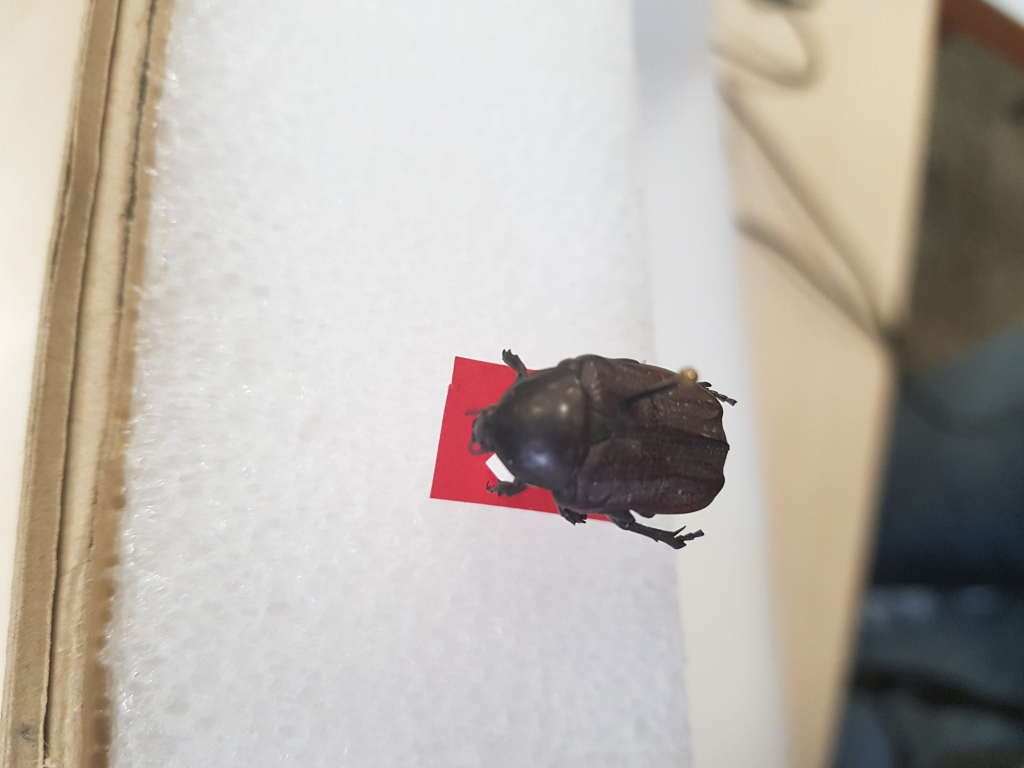Protaetia_asiatica: (466, 339, 743, 563)
